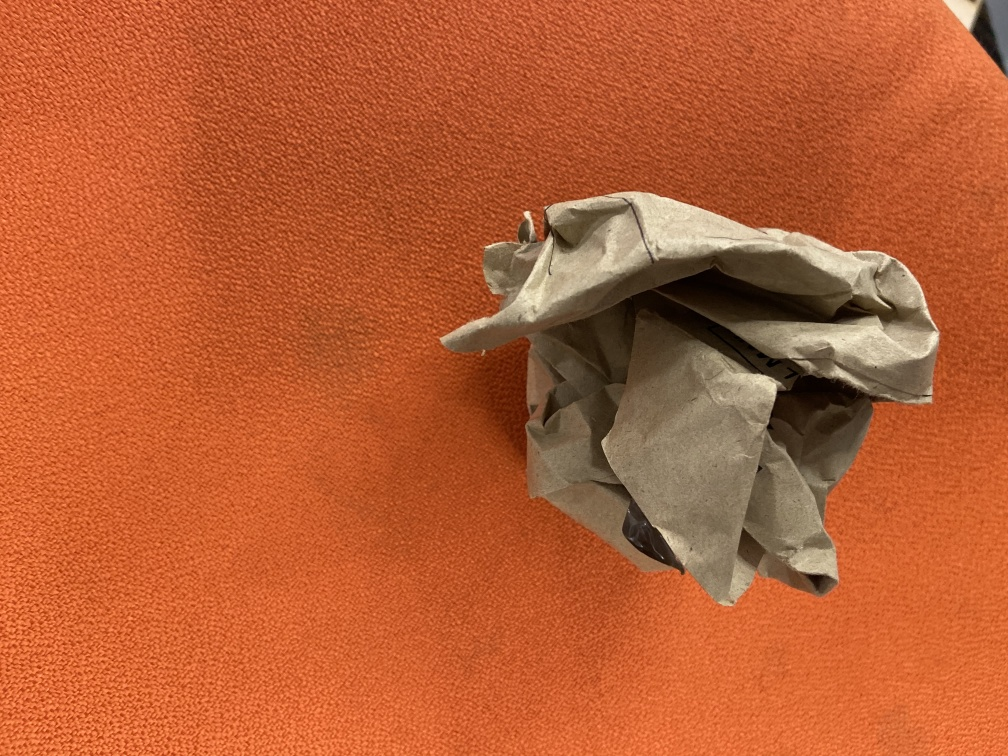paper_brown: (440, 188, 942, 611)
